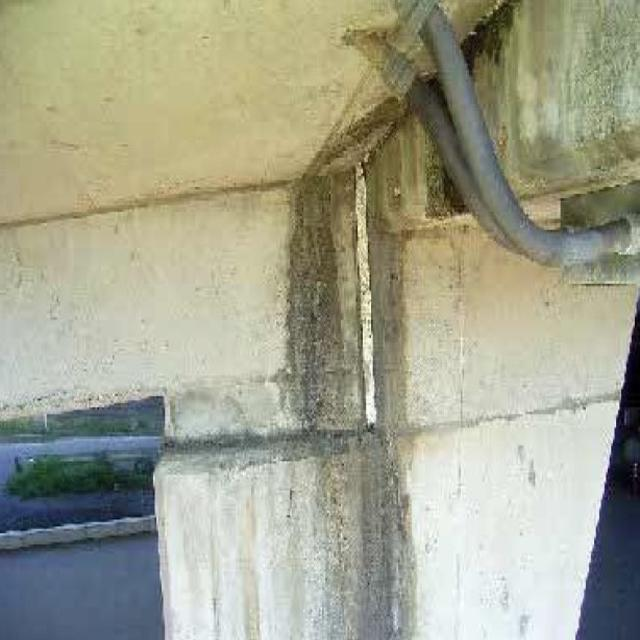leakage: (275, 105, 431, 640)
